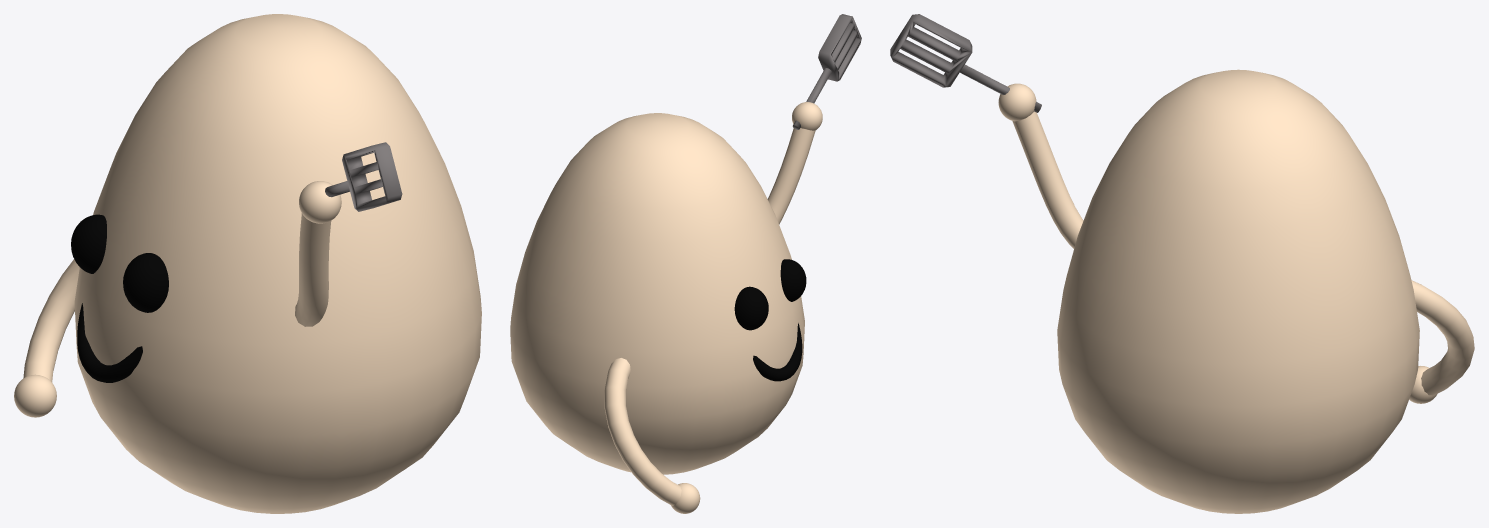
File: egg.glb
3 renders of one model, left to right at view 1: azimuth 30°, elevation 25°; view 2: azimuth 150°, elevation 25°; view 3: azimuth 270°, elevation 25°, orthographic. The views are drawn at different scales.
Visible parts, largest first — view 1: 계란, 팔 L.001, 팔.001, 뒤집개.001, Sphere.002, Sphere.004, mouth.001, hand. L.001, hand.001; view 2: 계란, 팔 L.001, 뒤집개.001, 팔.001, Sphere.004, mouth.001, Sphere.002, hand.001, hand. L.001; view 3: 계란, 뒤집개.001, 팔 L.001, 팔.001, hand.001.
Part boxes in pixels (bbox=[...]): 계란: bbox=[74, 14, 481, 513]; 팔 L.001: bbox=[23, 259, 79, 382]; 팔.001: bbox=[295, 213, 331, 326]; 뒤집개.001: bbox=[325, 142, 402, 211]; Sphere.002: bbox=[123, 253, 168, 312]; Sphere.004: bbox=[71, 214, 106, 273]; mouth.001: bbox=[77, 303, 142, 382]; hand. L.001: bbox=[14, 374, 56, 417]; hand.001: bbox=[299, 181, 341, 223]; 계란: bbox=[510, 113, 804, 474]; 팔 L.001: bbox=[604, 358, 681, 505]; 뒤집개.001: bbox=[792, 14, 861, 129]; 팔.001: bbox=[767, 128, 815, 224]; Sphere.004: bbox=[734, 286, 768, 330]; mouth.001: bbox=[753, 323, 802, 381]; Sphere.002: bbox=[780, 259, 806, 301]; hand.001: bbox=[792, 102, 822, 130]; hand. L.001: bbox=[671, 483, 700, 513]; 계란: bbox=[1057, 69, 1419, 513]; 뒤집개.001: bbox=[890, 14, 1041, 112]; 팔 L.001: bbox=[1411, 280, 1474, 395]; 팔.001: bbox=[1012, 111, 1083, 248]; hand.001: bbox=[998, 83, 1036, 121].
Bounding box in the file's own units: 0.7035 × 0.9288 × 1.1.
